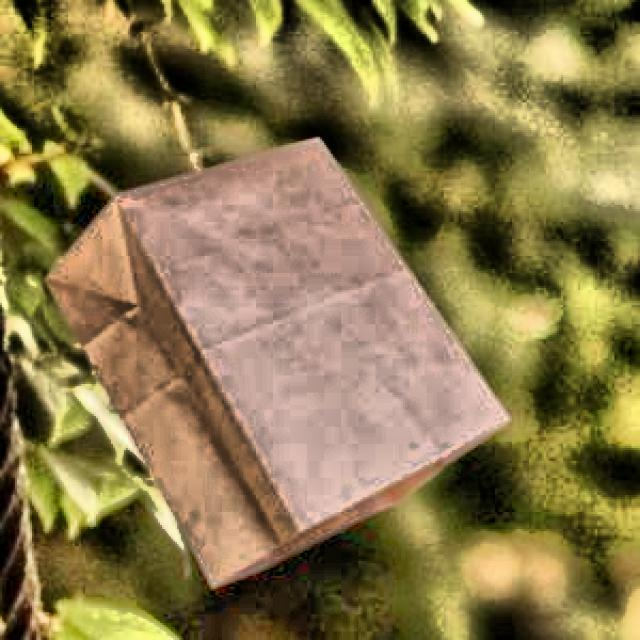Paper-bag: (41, 129, 516, 602)
